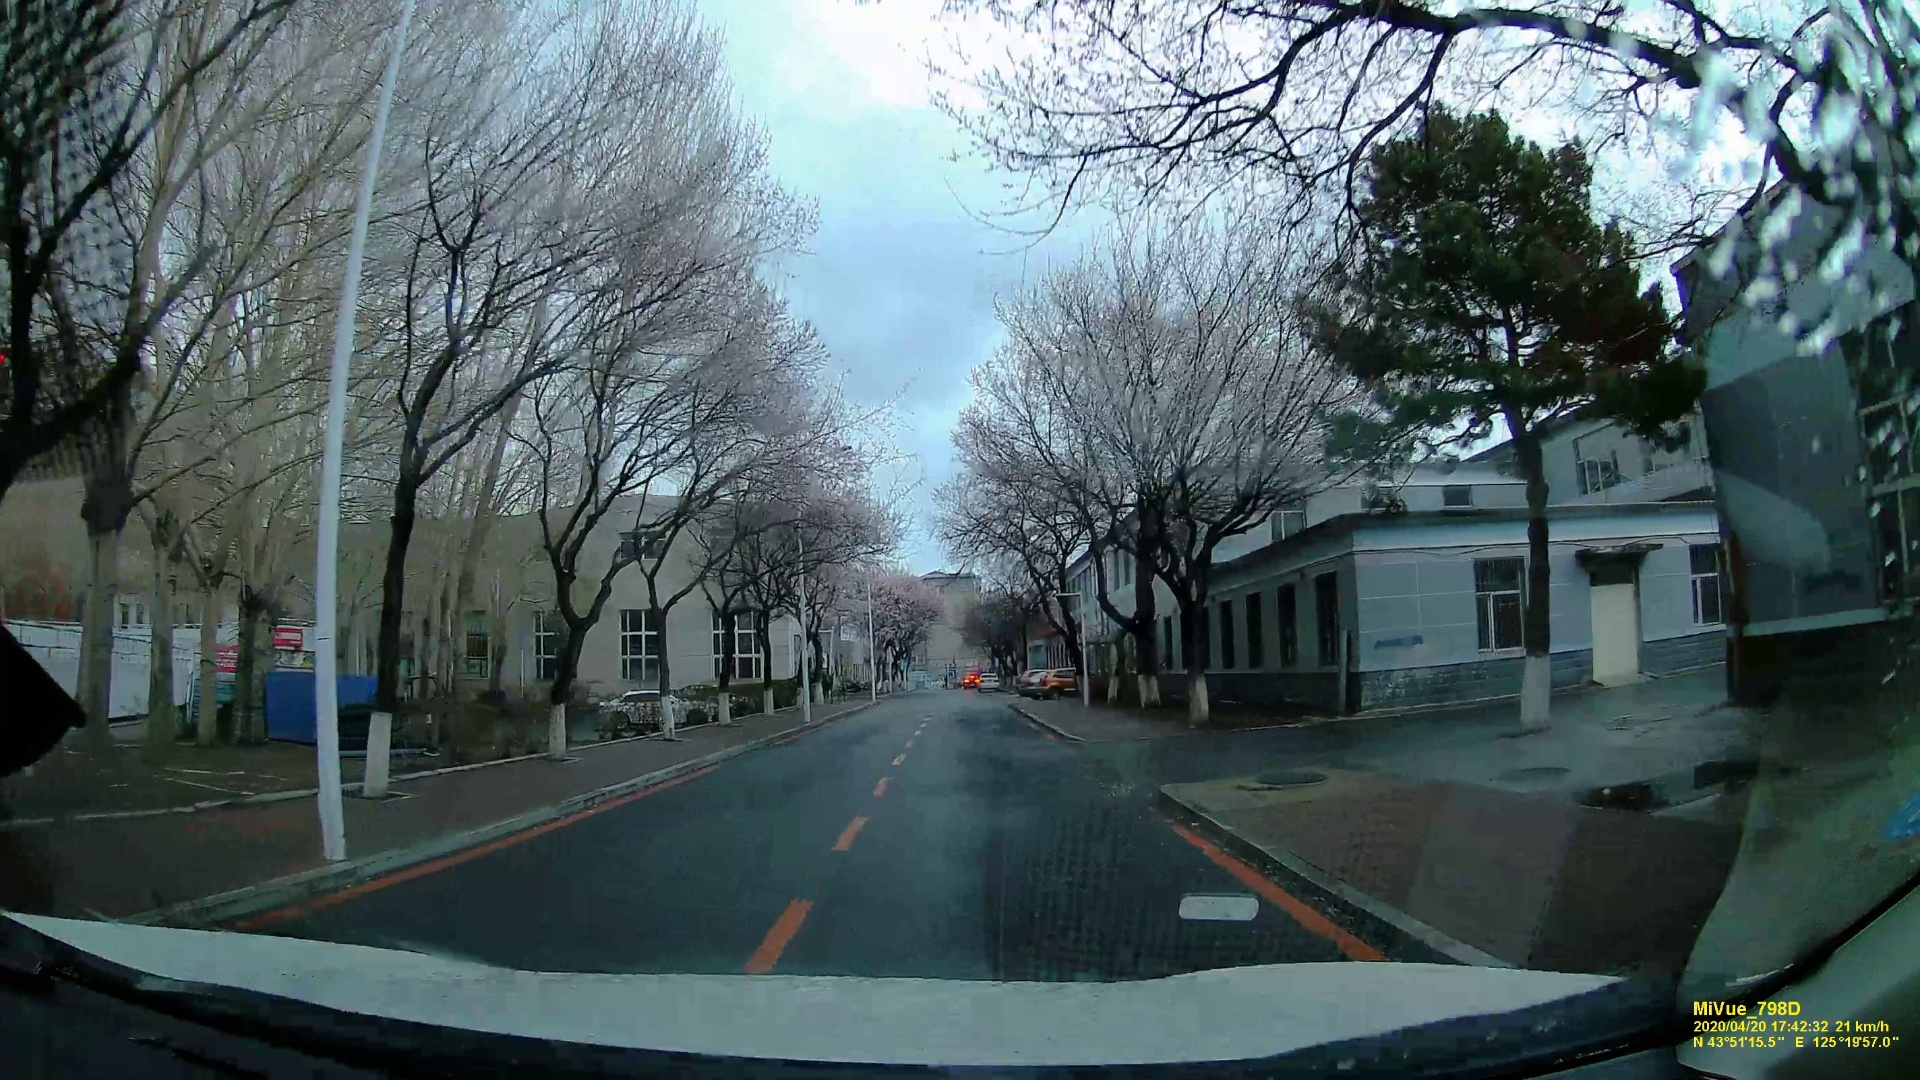vehicle: (597, 687, 713, 728), (1040, 669, 1080, 700), (1019, 673, 1042, 699), (978, 673, 1000, 694), (963, 673, 978, 690)
